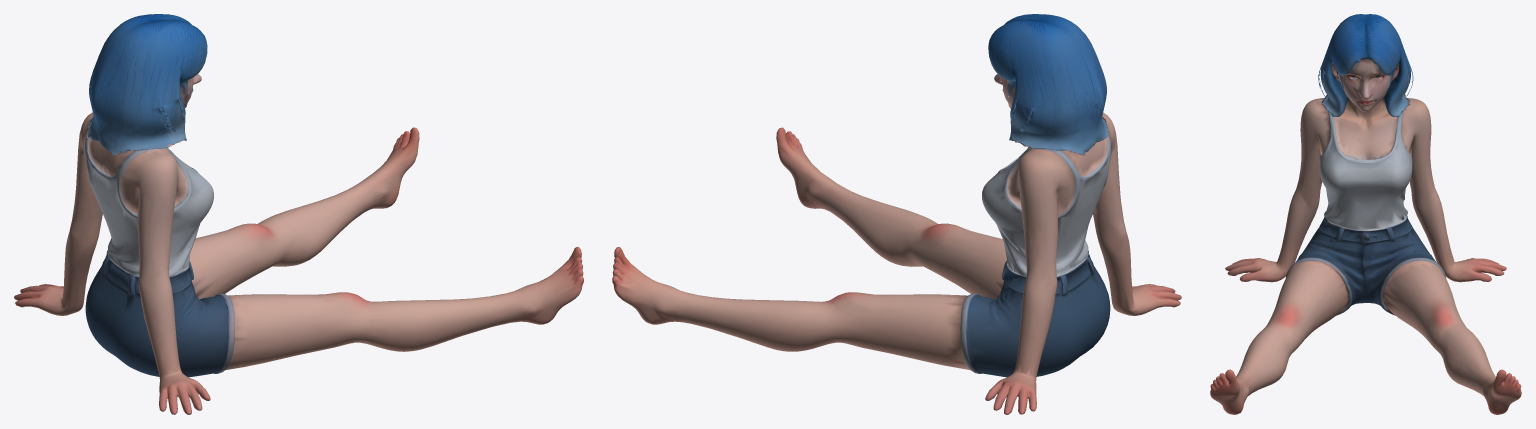
The model's file is pole_punk.glb.
The picture shows the model from 3 angles, left to right: view 1: azimuth 30°, elevation 25°; view 2: azimuth 150°, elevation 25°; view 3: azimuth 270°, elevation 25°; orthographic projection. The views are drawn at different scales.
Size of the model in its own units: 1.02 by 0.8156 by 0.8045.
1 material, 1 textured.
